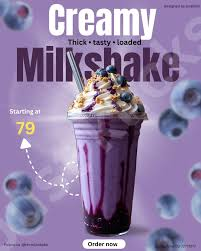CTA: (87, 241, 120, 248)
Headline: (16, 6, 181, 81)
Price: (9, 108, 42, 135)
Product: (66, 69, 147, 236)
